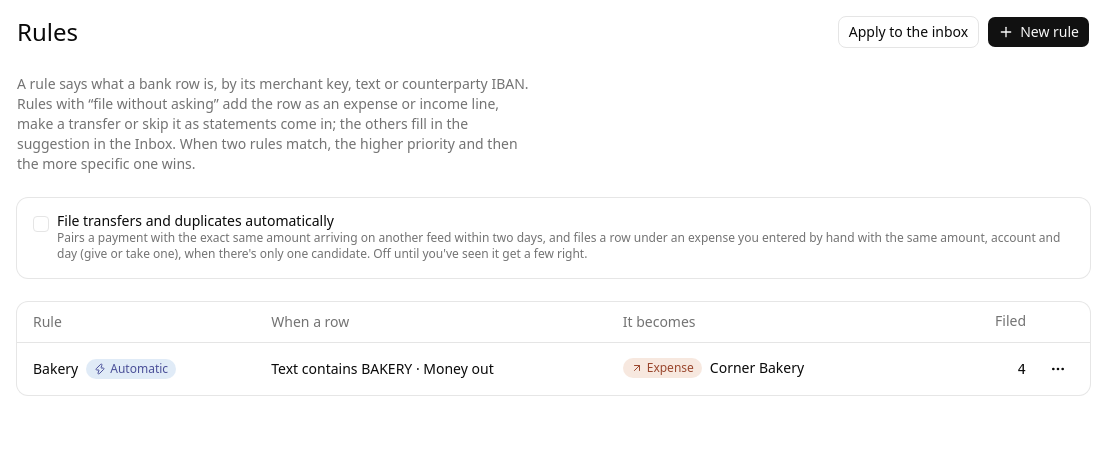
Scenario: applying the rules says what was filed
The image size is (1108, 475).
// Nothing to apply until the rules have loaded.
Click the button "Apply to the inbox": (908, 32) [838,16,979,48]
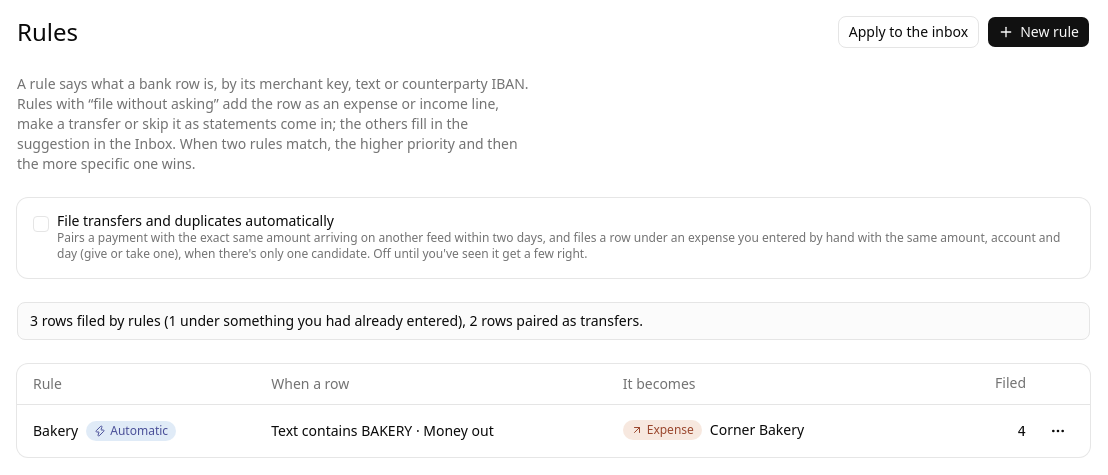
Now the text "3 rows filed by rules (1 under something you had already entered), 2 rows paired as transfers." is shown, box [30,311,643,330]
